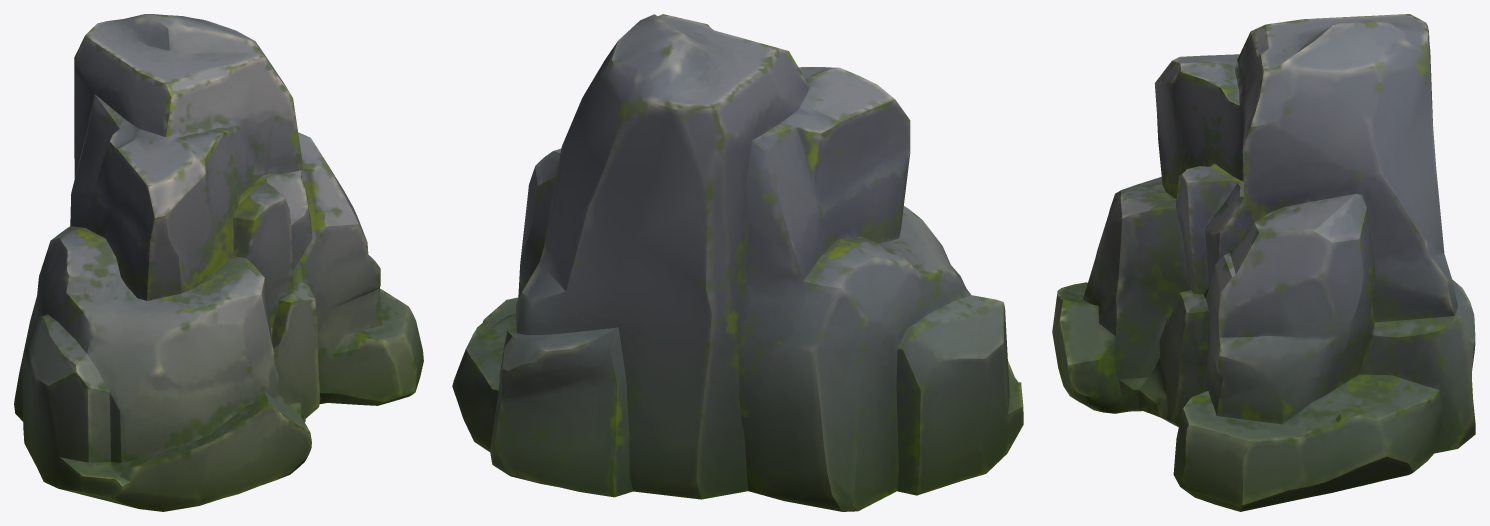
The model's file is Rock_Big_1.gltf.
The picture shows the model from 3 angles, left to right: view 1: azimuth 30°, elevation 25°; view 2: azimuth 150°, elevation 25°; view 3: azimuth 270°, elevation 25°; orthographic projection. The views are drawn at different scales.
Parts seen in each view (by area): view 1: Rock_Big_1; view 2: Rock_Big_1; view 3: Rock_Big_1.
Boxes of the visible parts, bbox=[...] form: Rock_Big_1: bbox=[14, 14, 423, 511]; Rock_Big_1: bbox=[452, 14, 1023, 511]; Rock_Big_1: bbox=[1052, 14, 1475, 511].
Bounding box in the file's own units: 5.2 × 4.58 × 4.45.
Materials: 1 (1 with a texture image).
